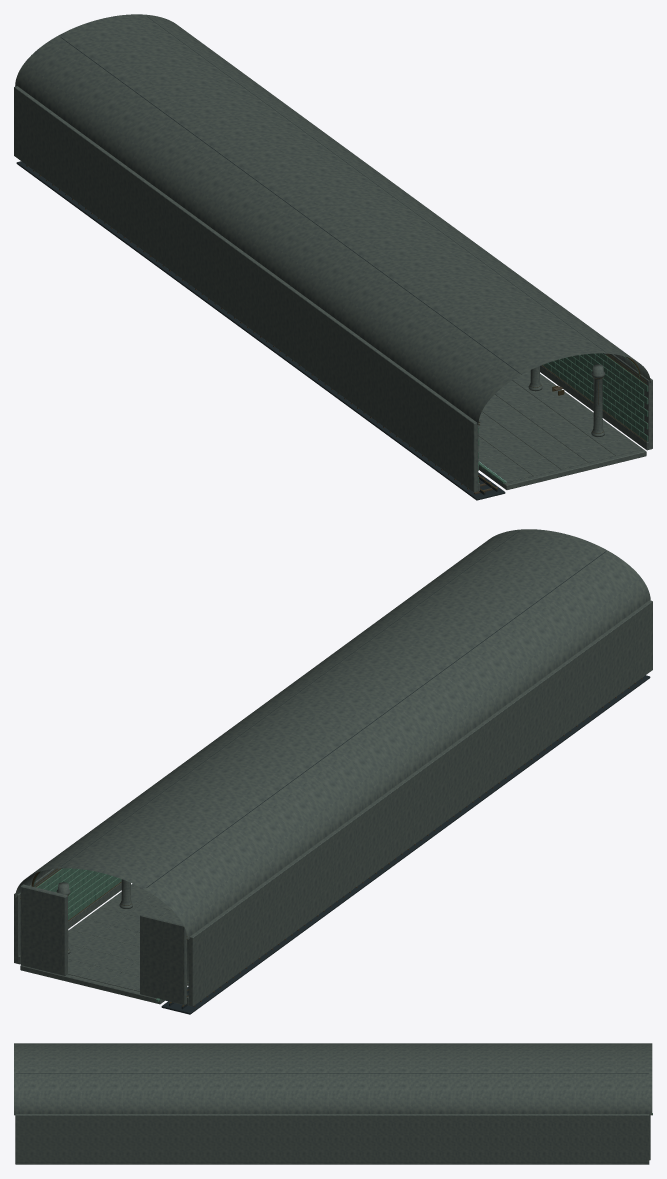
The model's file is station.glb.
3 views of the same model, one above another, from view 1: azimuth 30°, elevation 25°; view 2: azimuth 150°, elevation 25°; view 3: azimuth 270°, elevation 25° (orthographic). The views are drawn at different scales.
Visible parts, largest first — view 1: CeilingVault__Station_dark_stone, SideWalls__Station_dark_stone, PlatformFloor__Station_wet_honed_floor, SideWalls__Station_green_ceramic, TrackChannel__Station_graphite_iron, PlatformFloor__Station_dark_stone, CeilingVault__Station_graphite_iron, StationColumns__Station_dark_stone; view 2: CeilingVault__Station_dark_stone, SideWalls__Station_dark_stone, StationDetails__Station_dark_stone, PlatformFloor__Station_wet_honed_floor, TrackChannel__Station_graphite_iron, SideWalls__Station_green_ceramic, CeilingVault__Station_graphite_iron, PlatformFloor__Station_dark_stone; view 3: CeilingVault__Station_dark_stone, SideWalls__Station_dark_stone, PlatformFloor__Station_dark_stone, CeilingVault__Station_graphite_iron.
Part boxes in pixels (box(x1,y1,x2,y2)): CeilingVault__Station_dark_stone: box(15, 14, 650, 424); SideWalls__Station_dark_stone: box(14, 86, 652, 492); PlatformFloor__Station_wet_honed_floor: box(478, 370, 642, 482); SideWalls__Station_green_ceramic: box(478, 353, 648, 482); TrackChannel__Station_graphite_iron: box(16, 161, 505, 500); PlatformFloor__Station_dark_stone: box(479, 374, 646, 489); CeilingVault__Station_graphite_iron: box(60, 16, 606, 374); StationColumns__Station_dark_stone: box(528, 364, 604, 436); CeilingVault__Station_dark_stone: box(15, 529, 650, 939); SideWalls__Station_dark_stone: box(14, 600, 652, 1006); StationDetails__Station_dark_stone: box(20, 884, 187, 1005); PlatformFloor__Station_wet_honed_floor: box(68, 884, 181, 991); TrackChannel__Station_graphite_iron: box(161, 675, 650, 1014); SideWalls__Station_green_ceramic: box(36, 868, 121, 920); CeilingVault__Station_graphite_iron: box(61, 531, 606, 887); PlatformFloor__Station_dark_stone: box(20, 884, 164, 1004); CeilingVault__Station_dark_stone: box(14, 1043, 652, 1115); SideWalls__Station_dark_stone: box(15, 1114, 649, 1162); PlatformFloor__Station_dark_stone: box(15, 1163, 649, 1164); CeilingVault__Station_graphite_iron: box(16, 1073, 648, 1073).
Size of the model in its own units: 19.8 by 12.92 by 88.69.
Materials: 9 (4 with a texture image).
